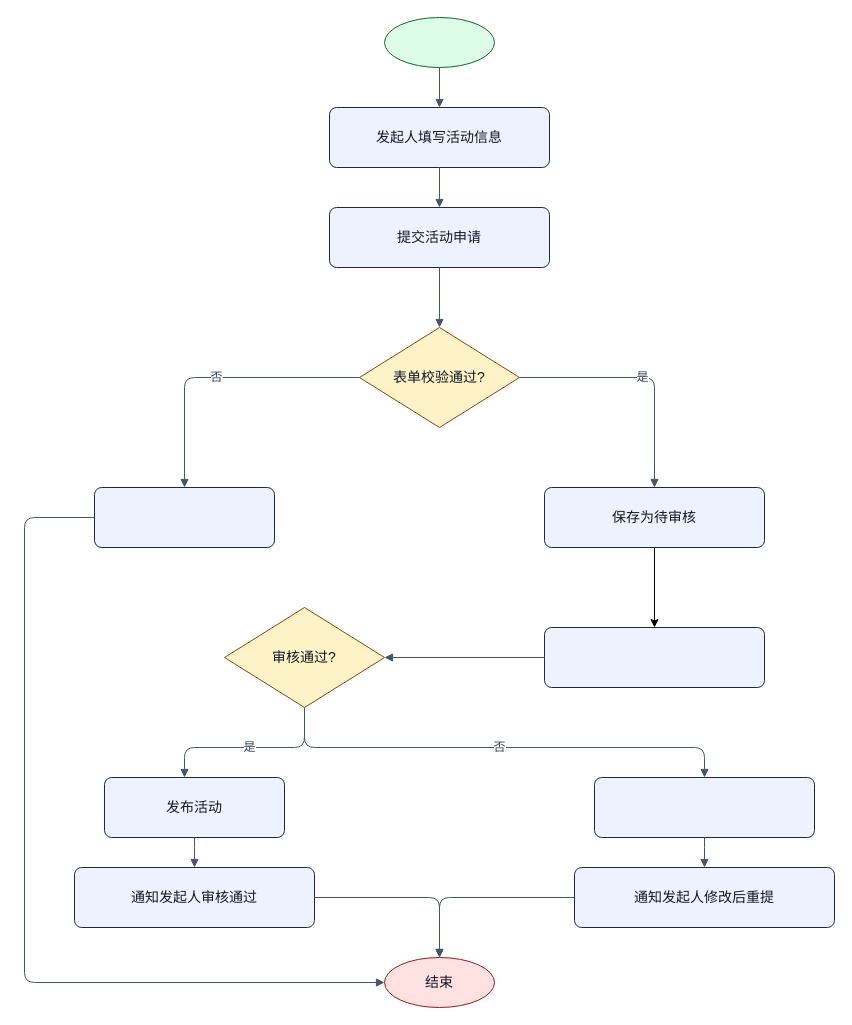
This 852x1025 diagram has some shape labels left out. The shapes that lost their labels are listed below. From the top down, each one's centre as x and y in pixels, then its label:
At (x=439, y=42): "开始".
At (x=184, y=517): "提示补全信息".
At (x=654, y=657): "管理员查看审核列表".
At (x=704, y=807): "退回并填写驳回备注".
